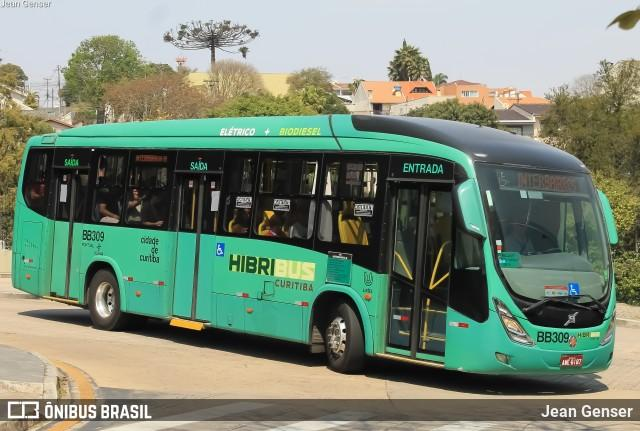INTERBAIRROS III: (514, 168, 594, 198)
